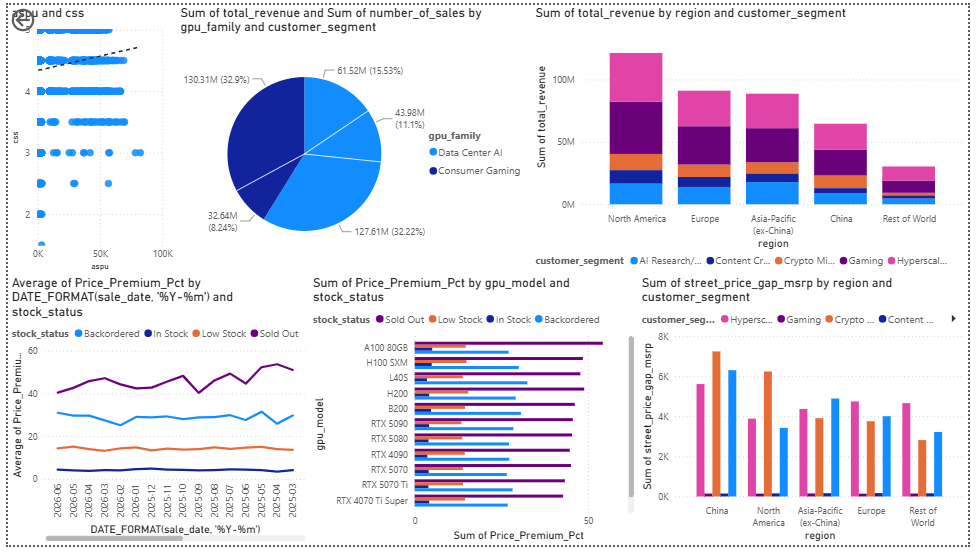

What the dashboard file says about the page in this screenshot:
{"tool":"powerbi","page":{"name":"Page 1","canvas":[1280,720],"ordinal":0},"visuals":[{"type":"scatterChart","fields":{"X":["satisfaction_street_price.aspu"],"Y":["satisfaction_street_price.css"]},"box":[0,0,225,360],"z":0},{"type":"pieChart","fields":{"Category":["total_revenue_by_segment.gpu_family","total_revenue_by_segment.customer_segment"],"Series":["total_revenue_by_segment.customer_segment"],"Y":["Sum(total_revenue_by_segment.total_revenue)"]},"box":[225,0,472.7,359.4],"z":1},{"type":"columnChart","fields":{"Category":["regional_segments_premiums.region"],"Y":["Sum(regional_segments_premiums.total_revenue)"],"Series":["regional_segments_premiums.customer_segment"]},"box":[698.3,0,581.7,360],"z":2},{"type":"lineChart","fields":{"Category":["gpu_instock_price.DATE_FORMAT(sale_date, '%Y-%m')"],"Series":["gpu_instock_price.stock_status"],"Y":["Avg(gpu_instock_price.Price_Premium_Pct)"]},"box":[0,360,401.7,360],"z":3},{"type":"actionButton","box":[0,0,100,40],"z":4},{"type":"clusteredBarChart","fields":{"Category":["gpumodels_stock_premiums.gpu_model"],"Y":["Sum(gpumodels_stock_premiums.Price_Premium_Pct)"],"Series":["gpumodels_stock_premiums.stock_status"]},"box":[401.7,360,438.3,360],"z":5},{"type":"clusteredColumnChart","fields":{"Category":["region_street_msrp_gap.region"],"Y":["Sum(region_street_msrp_gap.street_price_gap_msrp)"],"Series":["region_street_msrp_gap.customer_segment"]},"box":[840,360,440,360],"z":6}]}

Visuals, with their boxes in screenshot pixels (x1, y1, x2, y2), scaled from the page's 1280x720 canvas onto the 977x554 screenshot:
scatterChart - satisfaction_street_price.aspu x satisfaction_street_price.css: 0 0 172 277
pieChart - total_revenue_by_segment.gpu_family x total_revenue_by_segment.customer_segment: 172 0 533 277
columnChart - regional_segments_premiums.region x Sum(regional_segments_premiums.total_revenue): 533 0 976 277
lineChart - gpu_instock_price.DATE_FORMAT(sale_date, '%Y-%m') x gpu_instock_price.stock_status: 0 277 307 553
actionButton: 0 0 76 31
clusteredBarChart - gpumodels_stock_premiums.gpu_model x Sum(gpumodels_stock_premiums.Price_Premium_Pct): 307 277 641 553
clusteredColumnChart - region_street_msrp_gap.region x Sum(region_street_msrp_gap.street_price_gap_msrp): 641 277 976 553
